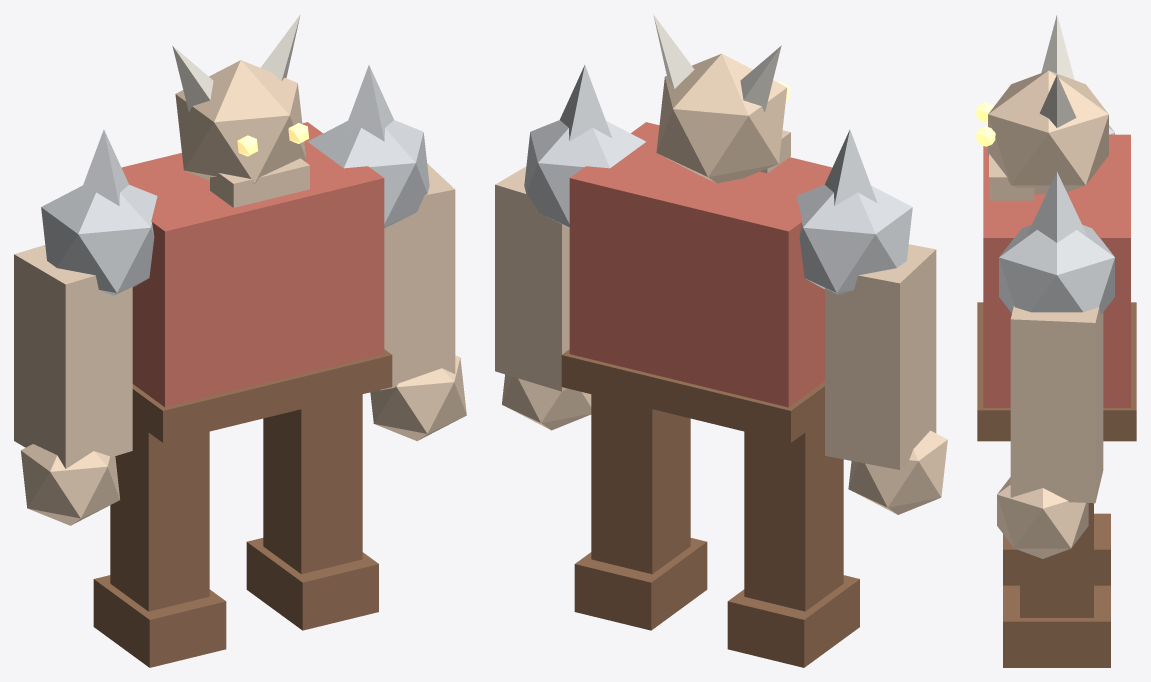
Rendered from brute.glb.
3 views of the same model, side by side, from view 1: azimuth 30°, elevation 25°; view 2: azimuth 150°, elevation 25°; view 3: azimuth 270°, elevation 25° (orthographic). The views are drawn at different scales.
Parts seen in each view (by area): view 1: torso.002, arm_l.003, leg_l.004, leg_r.004, arm_r.003, head.004, belt.003, shoulder_l.001, foot_l.003, foot_r.003, shoulder_r.001, fist_l (+6 smaller); view 2: torso.002, arm_l.003, leg_l.004, leg_r.004, arm_r.003, head.004, belt.003, shoulder_l.001, foot_r.003, foot_l.003, shoulder_r.001, fist_l (+5 smaller); view 3: arm_r.003, torso.002, head.004, shoulder_r.001, foot_r.003, leg_r.004, fist_r, belt.003, spike_r, foot_l.003, jaw.001, horn_l (+2 smaller).
Boxes of the visible parts, box(x1,y1,x2,y2) form: torso.002: box(121, 122, 384, 407); arm_l.003: box(14, 245, 132, 468); leg_l.004: box(110, 421, 209, 611); leg_r.004: box(263, 394, 362, 574); arm_r.003: box(380, 163, 455, 390); head.004: box(175, 60, 306, 183); belt.003: box(132, 349, 392, 442); shoulder_l.001: box(41, 184, 157, 295); foot_l.003: box(93, 575, 226, 667); foot_r.003: box(246, 538, 378, 630); shoulder_r.001: box(308, 120, 429, 227); fist_l: box(21, 444, 120, 525); torso.002: box(569, 122, 832, 407); arm_l.003: box(825, 244, 936, 469); leg_l.004: box(744, 418, 843, 611); leg_r.004: box(591, 394, 690, 574); arm_r.003: box(495, 166, 569, 391); head.004: box(656, 53, 787, 183); belt.003: box(561, 349, 824, 442); shoulder_l.001: box(796, 184, 912, 294); foot_r.003: box(574, 538, 707, 630); foot_l.003: box(727, 575, 859, 667); shoulder_r.001: box(524, 120, 645, 228); fist_l: box(848, 430, 947, 514); arm_r.003: box(1010, 306, 1103, 503); torso.002: box(983, 134, 1130, 407); head.004: box(988, 70, 1108, 194); shoulder_r.001: box(999, 224, 1114, 314); foot_r.003: box(1003, 585, 1110, 667); leg_r.004: box(1020, 503, 1093, 617); fist_r: box(997, 477, 1088, 558); belt.003: box(977, 302, 1136, 441); spike_r: box(1027, 172, 1086, 242); foot_l.003: box(1003, 513, 1110, 585); jaw.001: box(989, 154, 1034, 200); horn_l: box(1041, 14, 1074, 79).
Size of the model in its own units: 1.43 by 1.86 by 0.4738.
